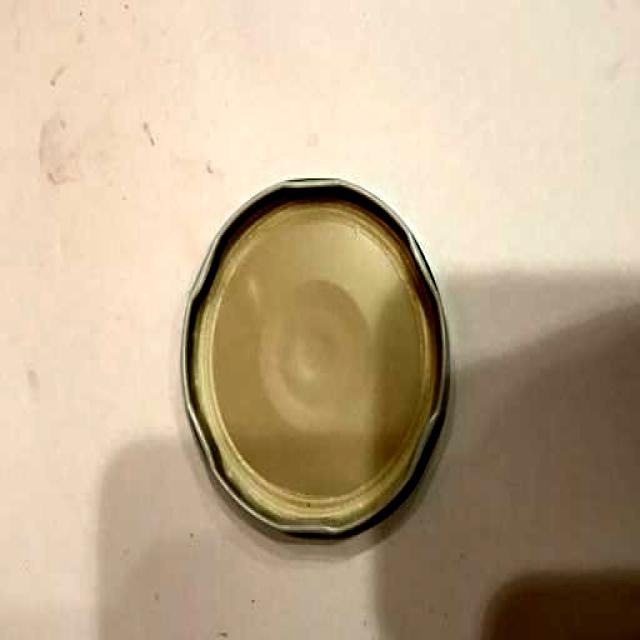Metal: (176, 170, 453, 546)
